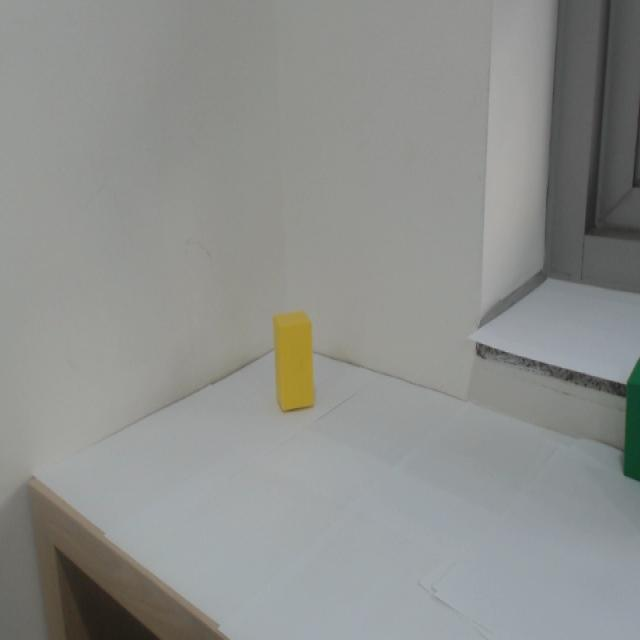cube: (262, 294, 327, 424)
